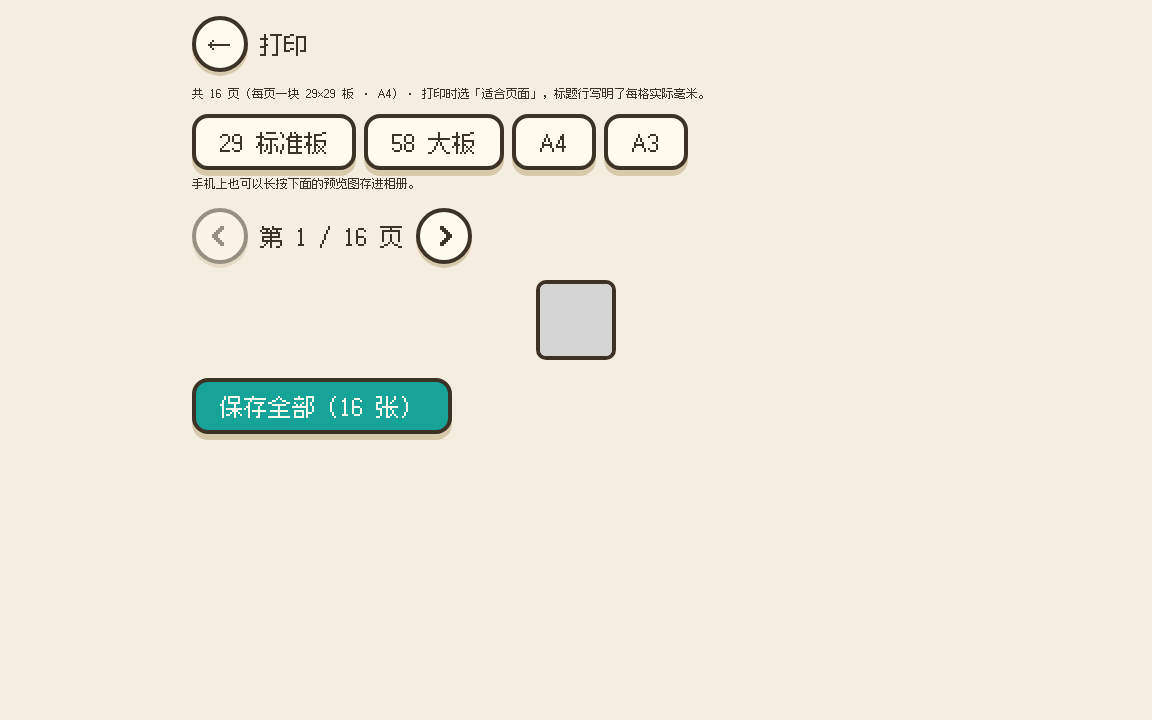
Scenario: C8：多页预览与一键保存 › 保存中途换板大小：落盘照常完成，但不把状态写回已经被丢弃的清单（代数判据）
What coordinates should you click on to do the following:
click the button with test id "print-save-all"
I would click on:
 (322, 406)
Its box is [192, 378, 452, 434].
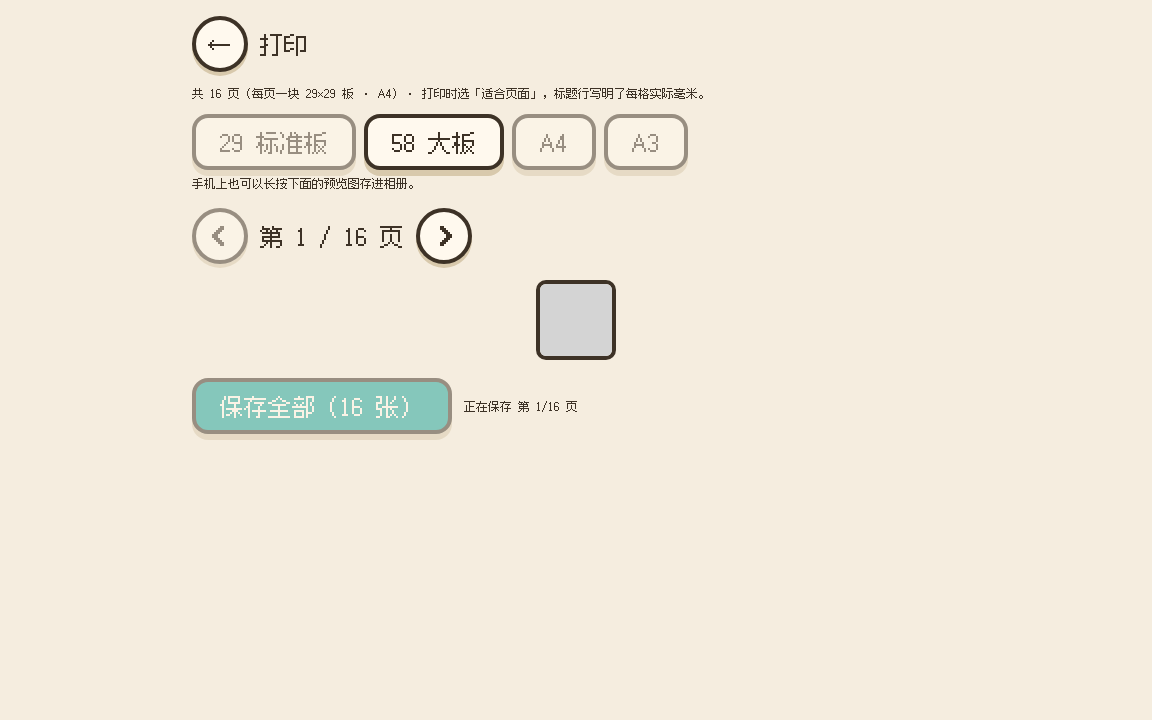
Expected: the text with test id "print-save-state" reads "正在保存 第 1/16 页", [464, 398, 578, 414]
What coordinates should you click on to do the following:
click the button with test id "print-board-58"
I would click on:
 (434, 142)
Its box is [364, 114, 504, 170].
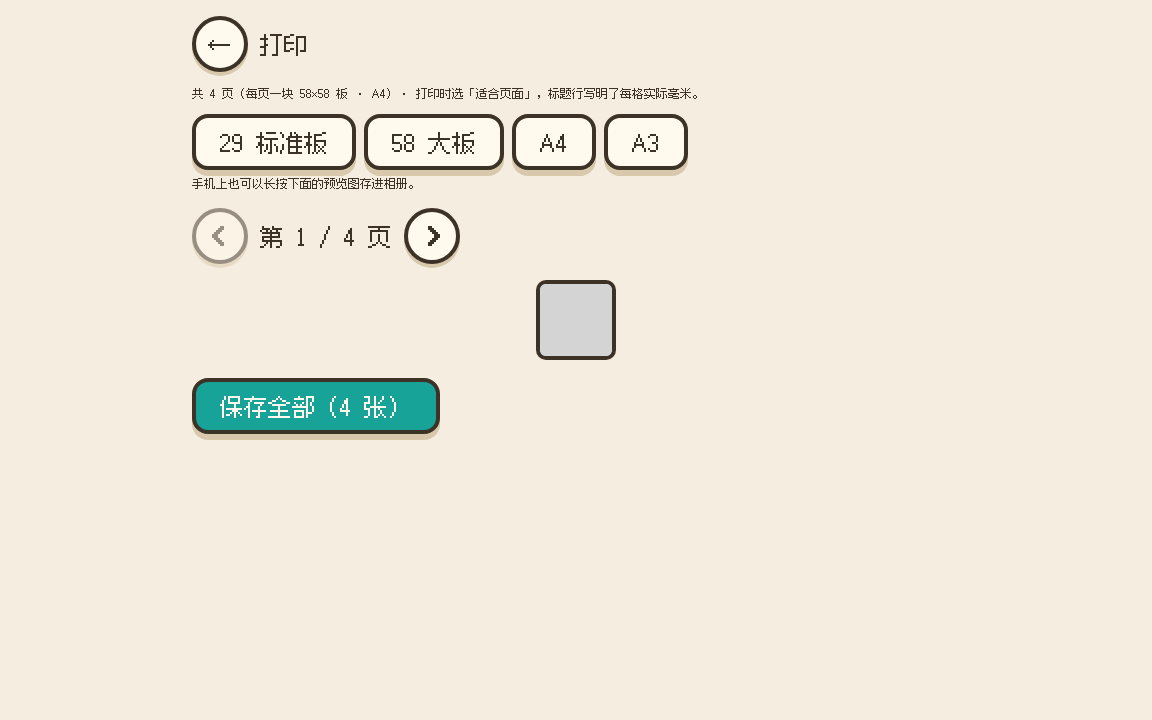
Expected: the button with test id "print-save-all" reads "保存全部（4 张）", [192, 378, 440, 434]
